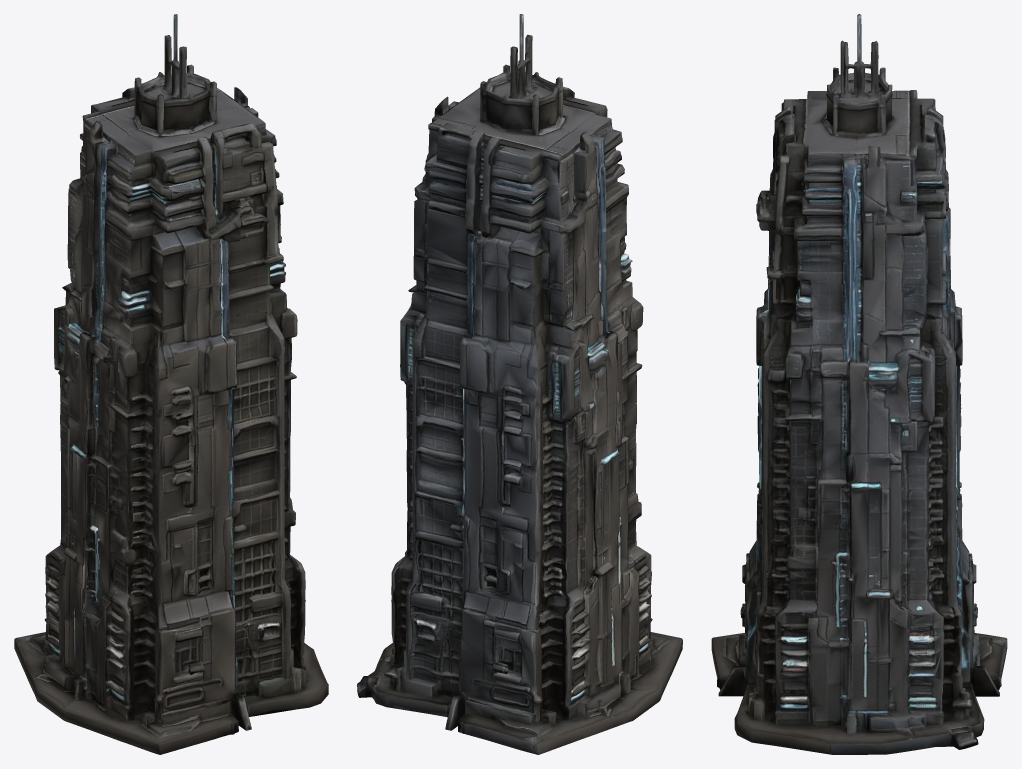
The model's file is tower.glb.
3 renders of one model, left to right at view 1: azimuth 30°, elevation 25°; view 2: azimuth 150°, elevation 25°; view 3: azimuth 270°, elevation 25°, orthographic.
Parts seen in each view (by area): view 1: node_53e6c5bd-53cd-4f95-a6ab-307b95b48119; view 2: node_53e6c5bd-53cd-4f95-a6ab-307b95b48119; view 3: node_53e6c5bd-53cd-4f95-a6ab-307b95b48119.
Part boxes in pixels (left/top/right/bottom): node_53e6c5bd-53cd-4f95-a6ab-307b95b48119: left=14, top=14, right=328, bottom=754; node_53e6c5bd-53cd-4f95-a6ab-307b95b48119: left=357, top=14, right=682, bottom=754; node_53e6c5bd-53cd-4f95-a6ab-307b95b48119: left=711, top=14, right=1007, bottom=754.
Size of the model in its own units: 0.3931 by 0.9997 by 0.3949.
1 material, 1 textured.
